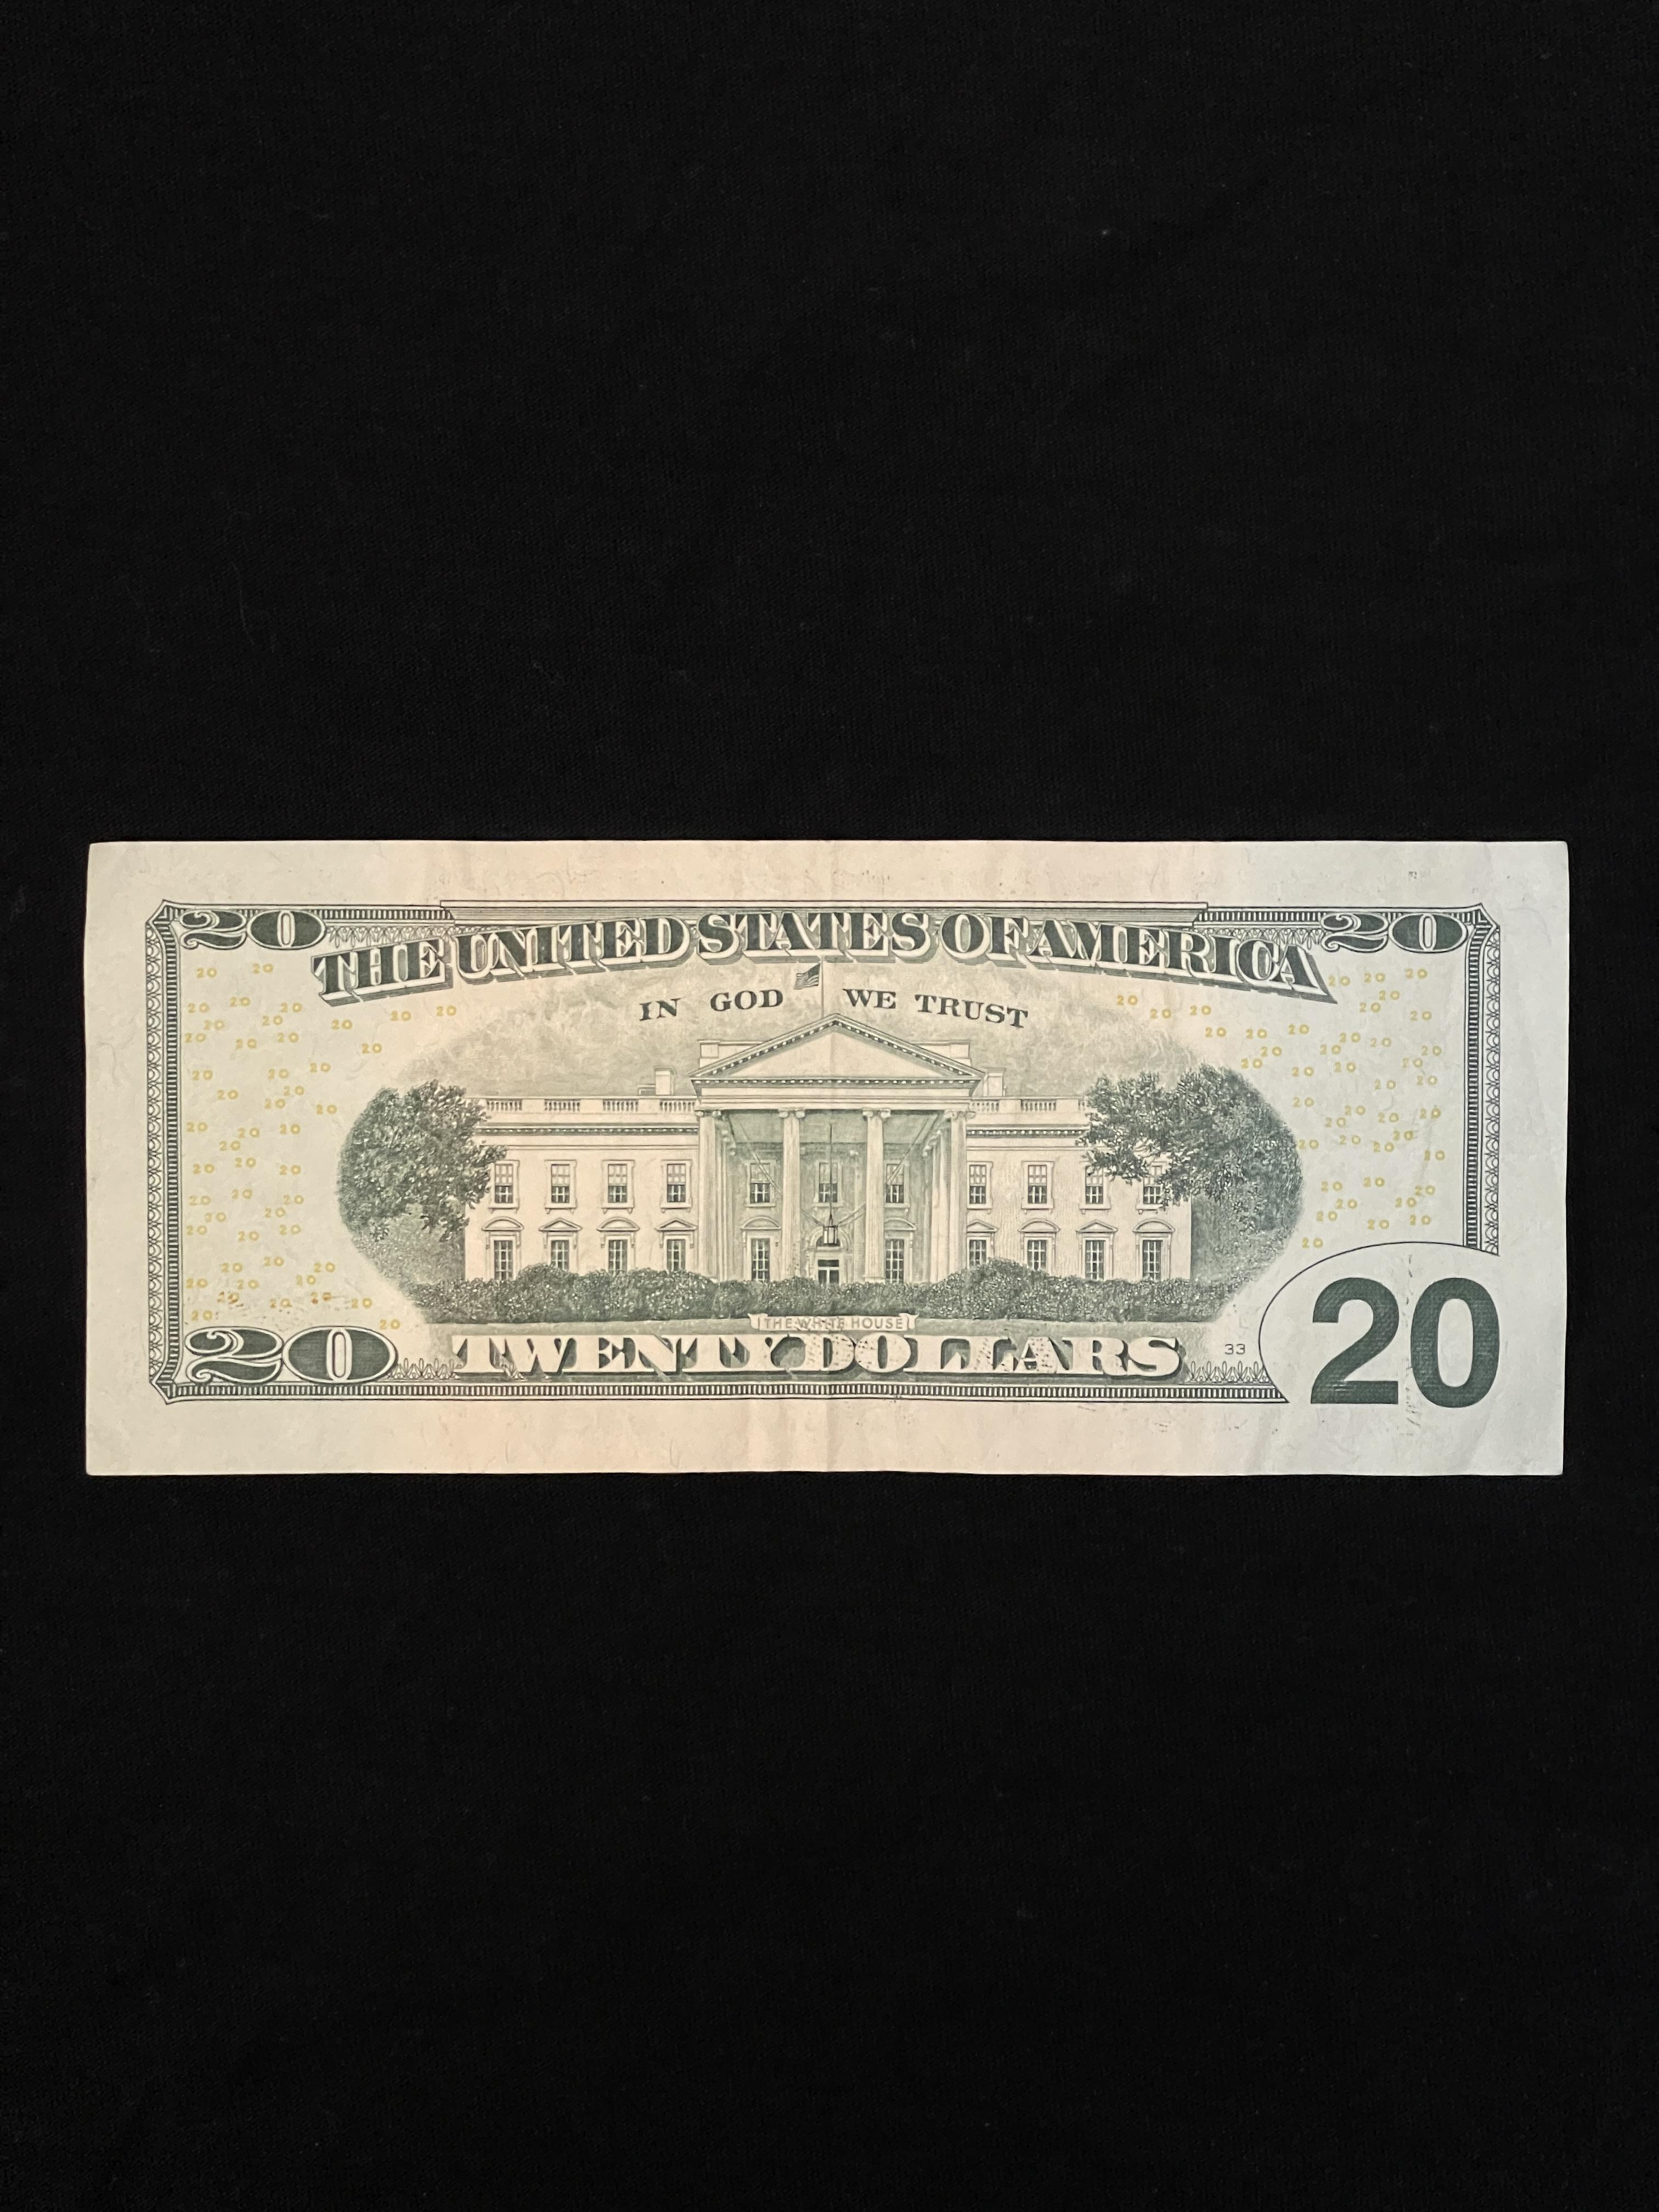TwentyBill: (70, 831, 1586, 1482)
